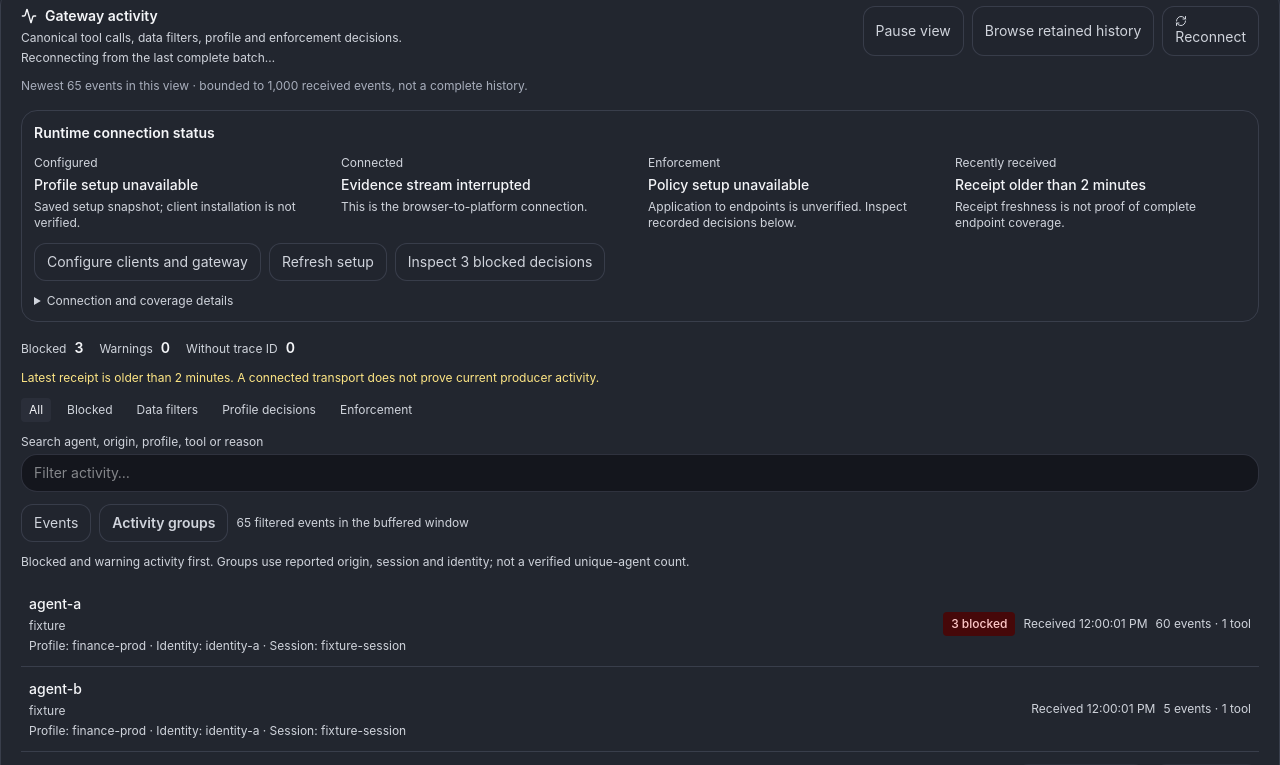
paginates a frozen window and aggregates matching reported origins
Click the button "Events".
click(56, 523)  # box [21, 504, 91, 542]
(page scrolled)
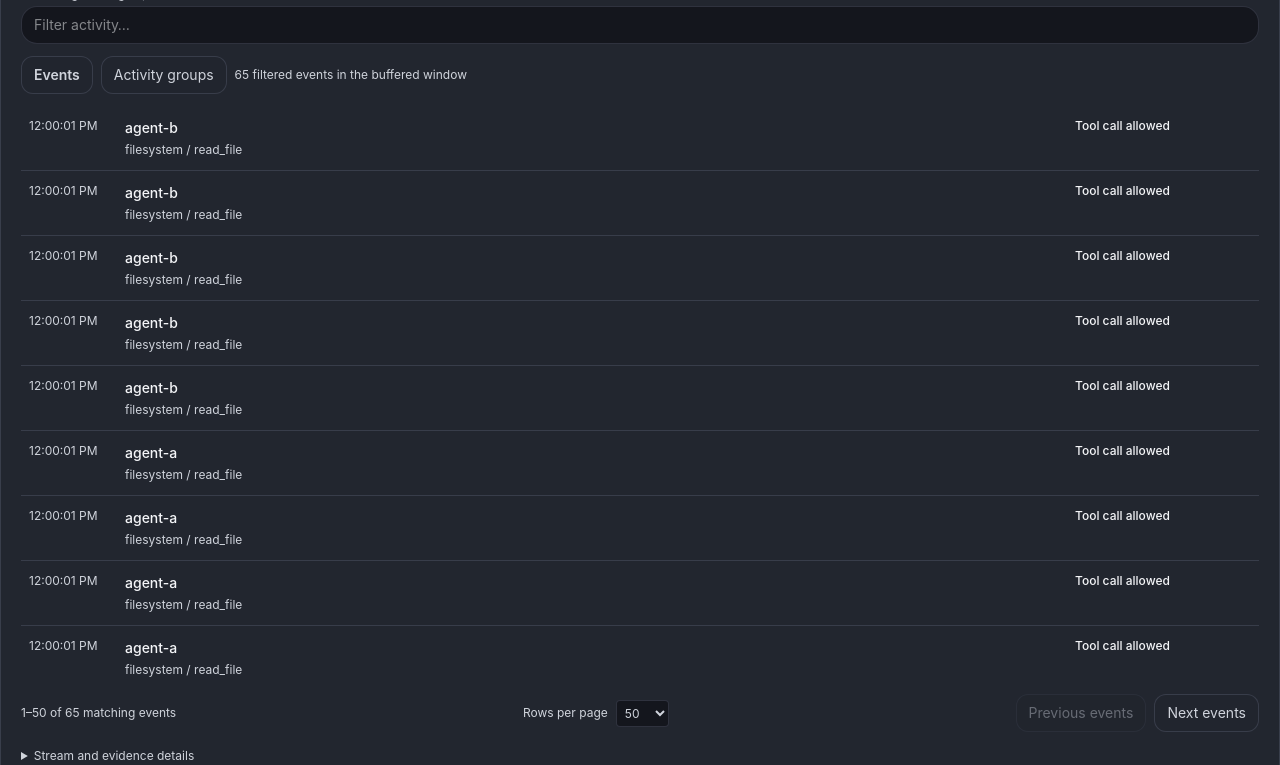
Click the button "Next events".
click(1207, 713)  # box [1154, 694, 1259, 732]
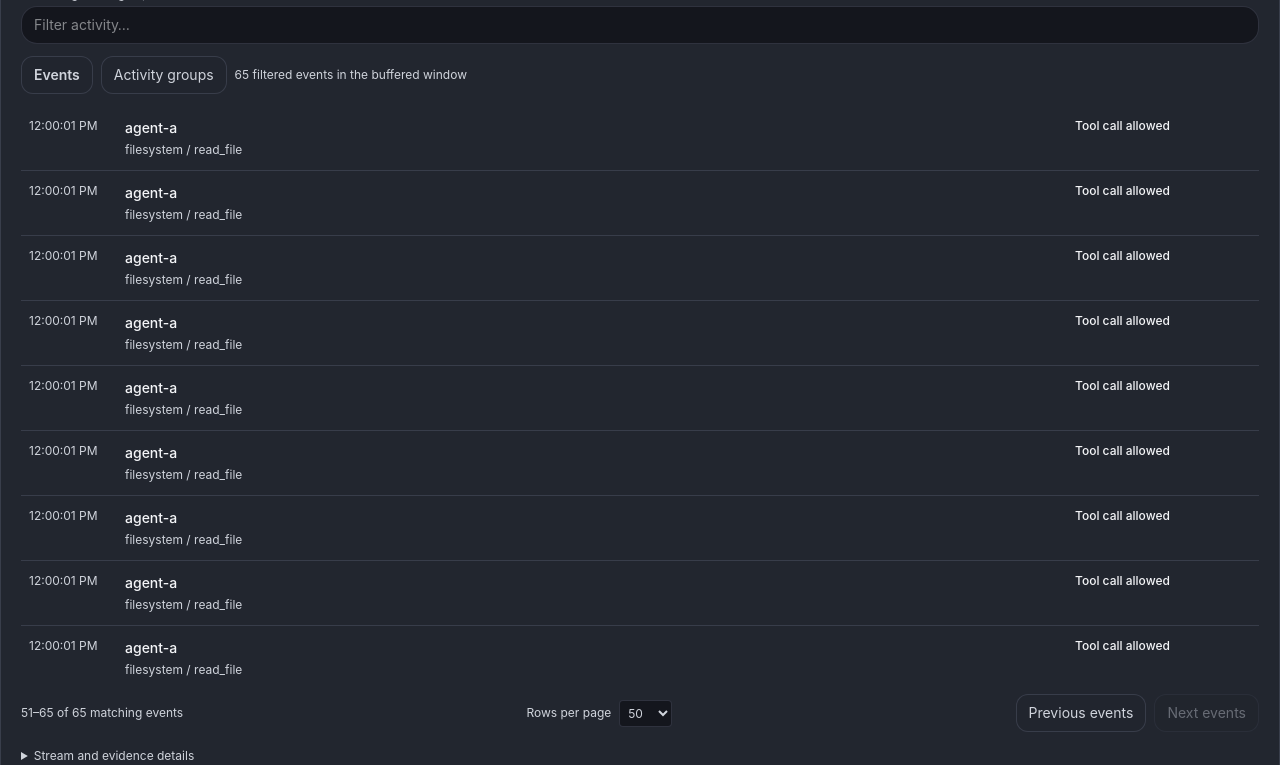
Click the button "Activity groups".
click(164, 75)  # box [101, 56, 227, 94]
(page scrolled)
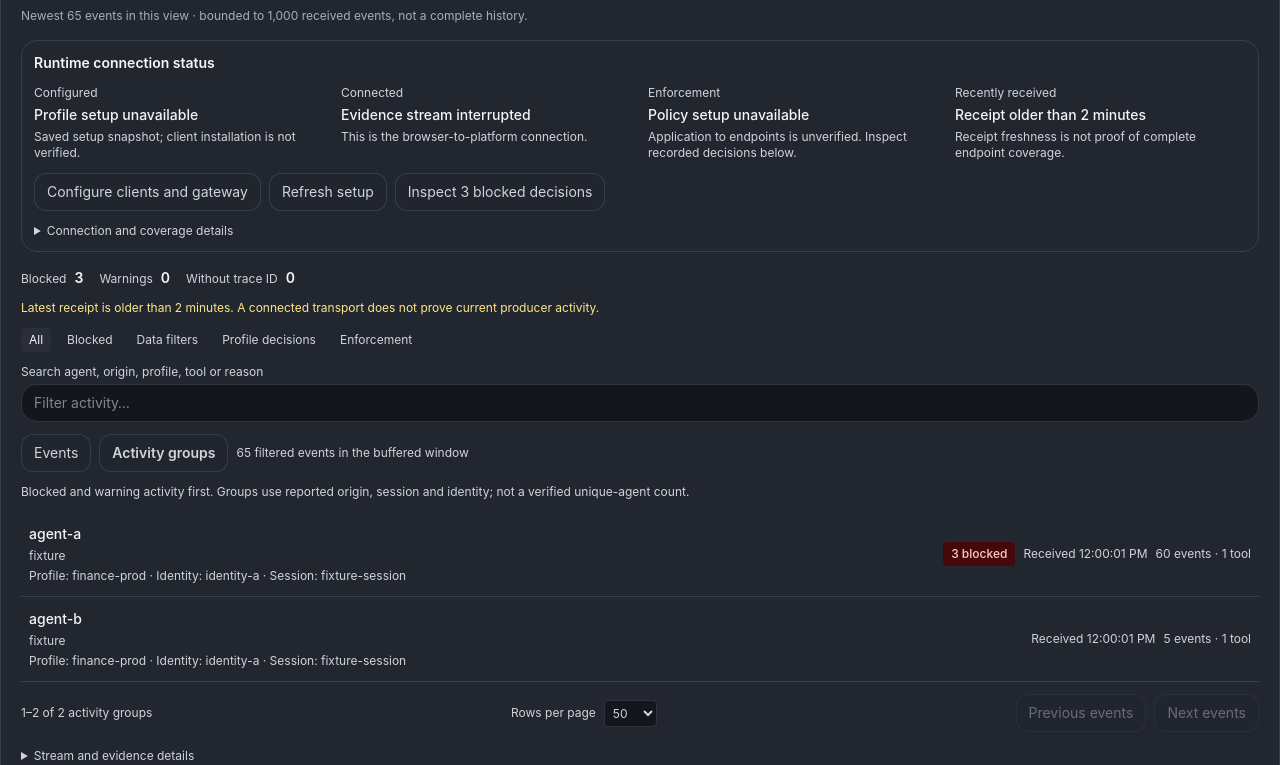
Expected: the button that starts with "agent-a" is shown, [21, 512, 1259, 597]
Click the button that starts with "agent-b".
click(55, 618)  # box [21, 597, 1259, 682]
(page scrolled)
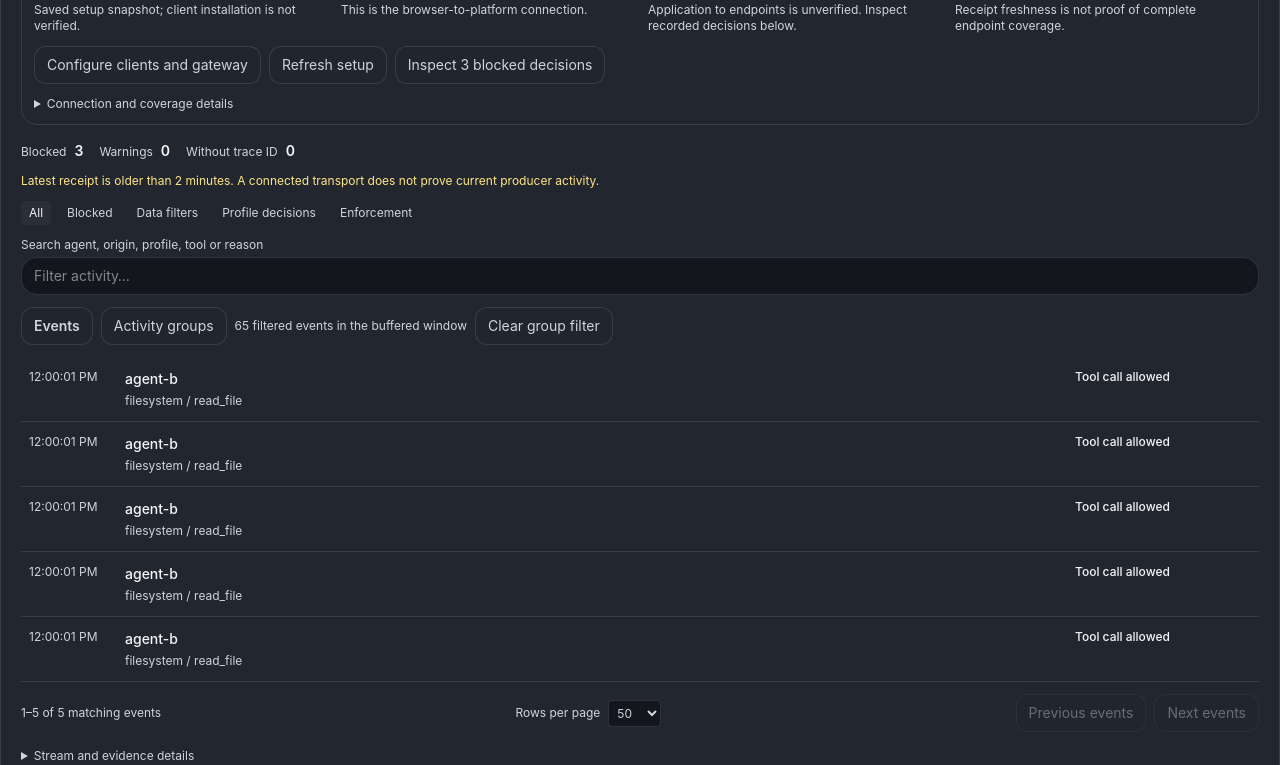
Expected: the number of elements with test id "gateway-activity-row" is 5, [21, 357, 1259, 422]; [21, 422, 1259, 487]; [21, 487, 1259, 552]; [21, 552, 1259, 617]; [21, 617, 1259, 682]
